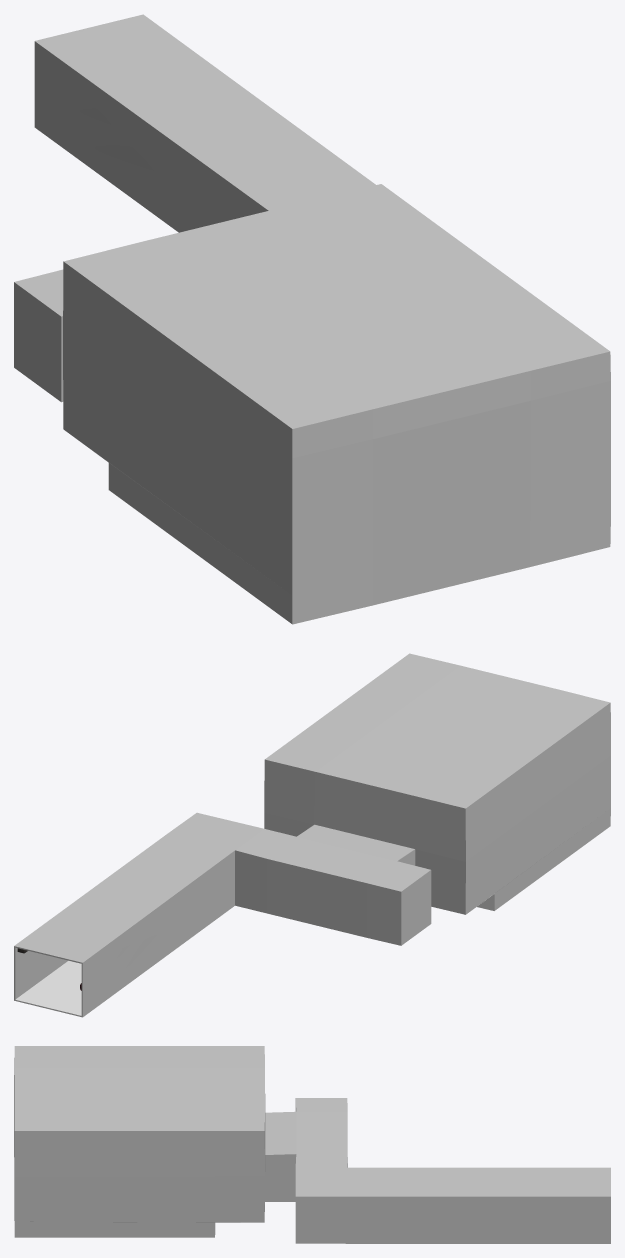
The model's file is garagemNova.fbx.
The picture shows the model from 3 angles, top to bottom: view 1: azimuth 30°, elevation 25°; view 2: azimuth 150°, elevation 25°; view 3: azimuth 270°, elevation 25°; orthographic projection. The views are drawn at different scales.
Parts seen in each view (by area): view 1: Corredor; view 2: Corredor, ChaoCorredor; view 3: Corredor.
Part boxes in pixels (x1=…): Corredor: x1=14, y1=14, x2=610, y2=624; Corredor: x1=14, y1=653, x2=610, y2=1017; ChaoCorredor: x1=14, y1=877, x2=540, y2=1017; Corredor: x1=14, y1=1046, x2=610, y2=1243.
Size of the model in its own units: 1515 by 715 by 3610.
